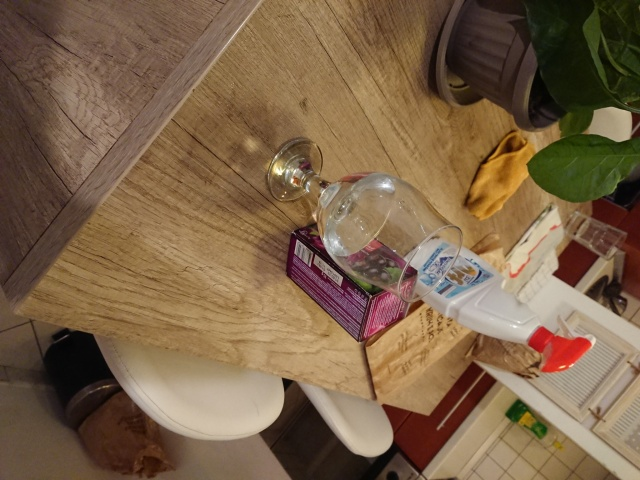Franck Black Currant Tea 60g: (282, 210, 421, 346)
